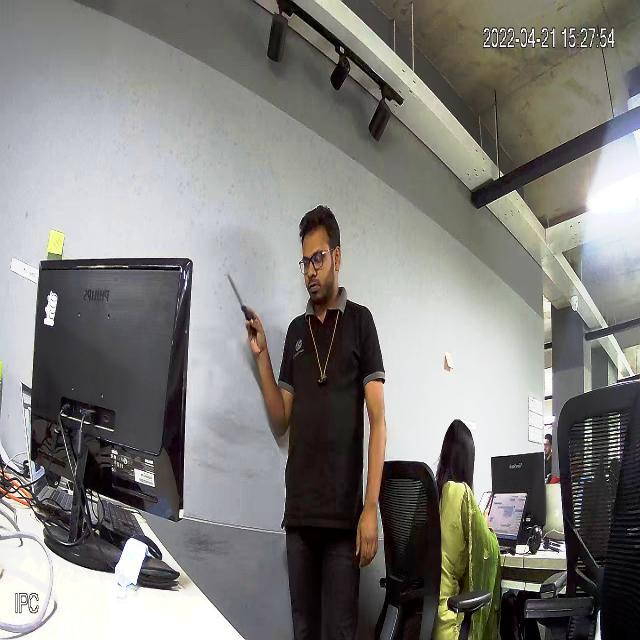Knife: (217, 257, 275, 341)
